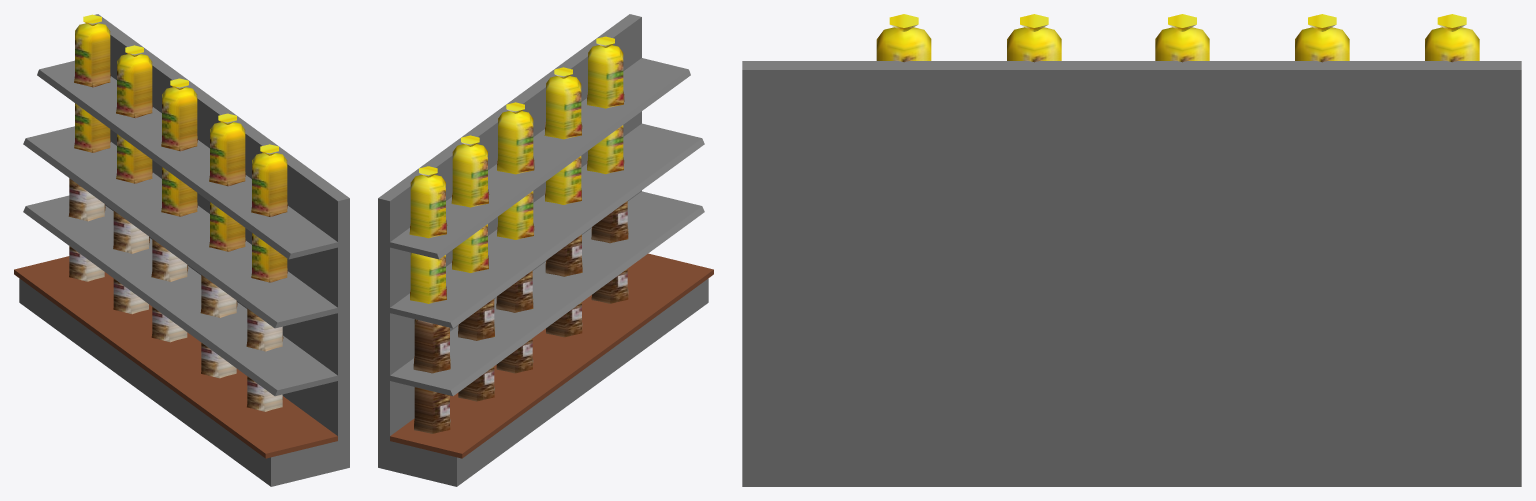
Rendered from breads.glb.
3 renders of one model, left to right at view 1: azimuth 30°, elevation 25°; view 2: azimuth 150°, elevation 25°; view 3: azimuth 270°, elevation 25°, orthographic. The views are drawn at different scales.
Visible parts, largest first — view 1: breads, Cylinder.404, Cylinder.405, Cylinder.005, Cylinder.403, Cylinder.402, Cylinder.410, Cylinder.409, Cylinder.408, Cylinder.407, Cylinder.406, Cylinder.414 (+9 smaller); view 2: breads, Cylinder.403, Cylinder.405, Cylinder.404, Cylinder.402, Cylinder.005, Cylinder.029, Cylinder.406, Cylinder.415, Cylinder.410, Cylinder.408, Cylinder.409 (+9 smaller); view 3: breads, Cylinder.405, Cylinder.005, Cylinder.403, Cylinder.402, Cylinder.404.
Boxes of the visible parts, x1=… form: breads: x1=14, y1=14, x2=349, y2=486; Cylinder.404: x1=209, y1=113, x2=245, y2=186; Cylinder.405: x1=251, y1=144, x2=287, y2=217; Cylinder.005: x1=74, y1=14, x2=110, y2=87; Cylinder.403: x1=161, y1=78, x2=197, y2=151; Cylinder.402: x1=116, y1=45, x2=152, y2=118; Cylinder.410: x1=251, y1=233, x2=287, y2=282; Cylinder.409: x1=209, y1=202, x2=245, y2=251; Cylinder.408: x1=161, y1=167, x2=197, y2=216; Cylinder.407: x1=116, y1=134, x2=152, y2=183; Cylinder.406: x1=74, y1=103, x2=110, y2=152; Cylinder.414: x1=246, y1=308, x2=283, y2=351; breads: x1=378, y1=14, x2=713, y2=486; Cylinder.403: x1=497, y1=102, x2=534, y2=174; Cylinder.405: x1=587, y1=36, x2=624, y2=108; Cylinder.404: x1=544, y1=67, x2=582, y2=139; Cylinder.402: x1=451, y1=135, x2=489, y2=207; Cylinder.005: x1=409, y1=166, x2=447, y2=238; Cylinder.029: x1=413, y1=319, x2=450, y2=373; Cylinder.406: x1=410, y1=252, x2=446, y2=303; Cylinder.415: x1=414, y1=387, x2=450, y2=433; Cylinder.410: x1=587, y1=125, x2=624, y2=174; Cylinder.408: x1=497, y1=191, x2=534, y2=239; Cylinder.409: x1=545, y1=156, x2=581, y2=204; breads: x1=742, y1=61, x2=1521, y2=486; Cylinder.405: x1=876, y1=14, x2=931, y2=62; Cylinder.005: x1=1425, y1=14, x2=1479, y2=62; Cylinder.403: x1=1155, y1=14, x2=1209, y2=62; Cylinder.402: x1=1295, y1=14, x2=1349, y2=62; Cylinder.404: x1=1007, y1=14, x2=1061, y2=62.
Size of the model in its own units: 2.55 by 8.32 by 13.21.
3 materials, 1 textured.
